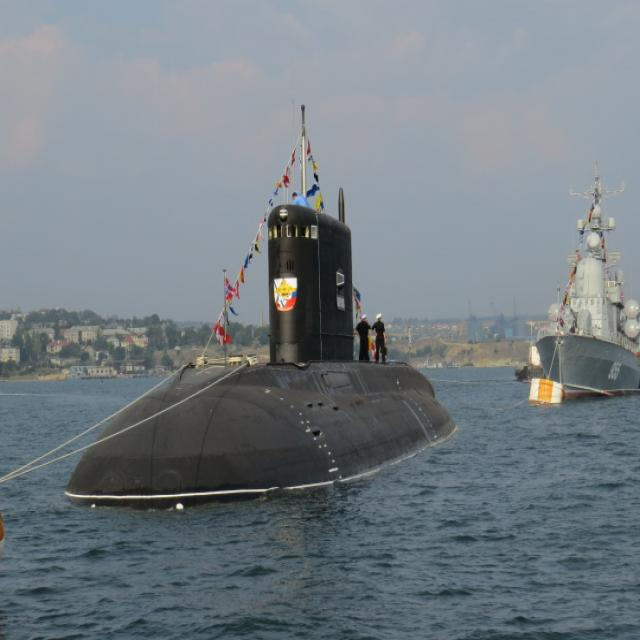submarine: (69, 182, 462, 511)
